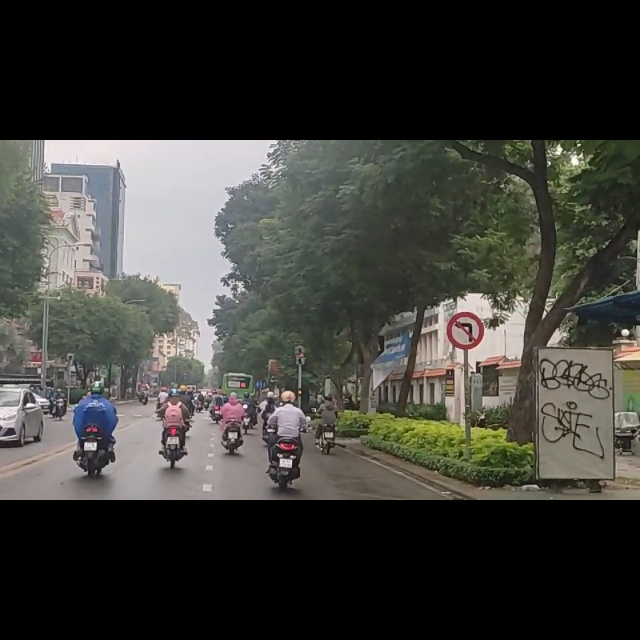bien_hieu_lenh: (446, 302, 487, 375)
